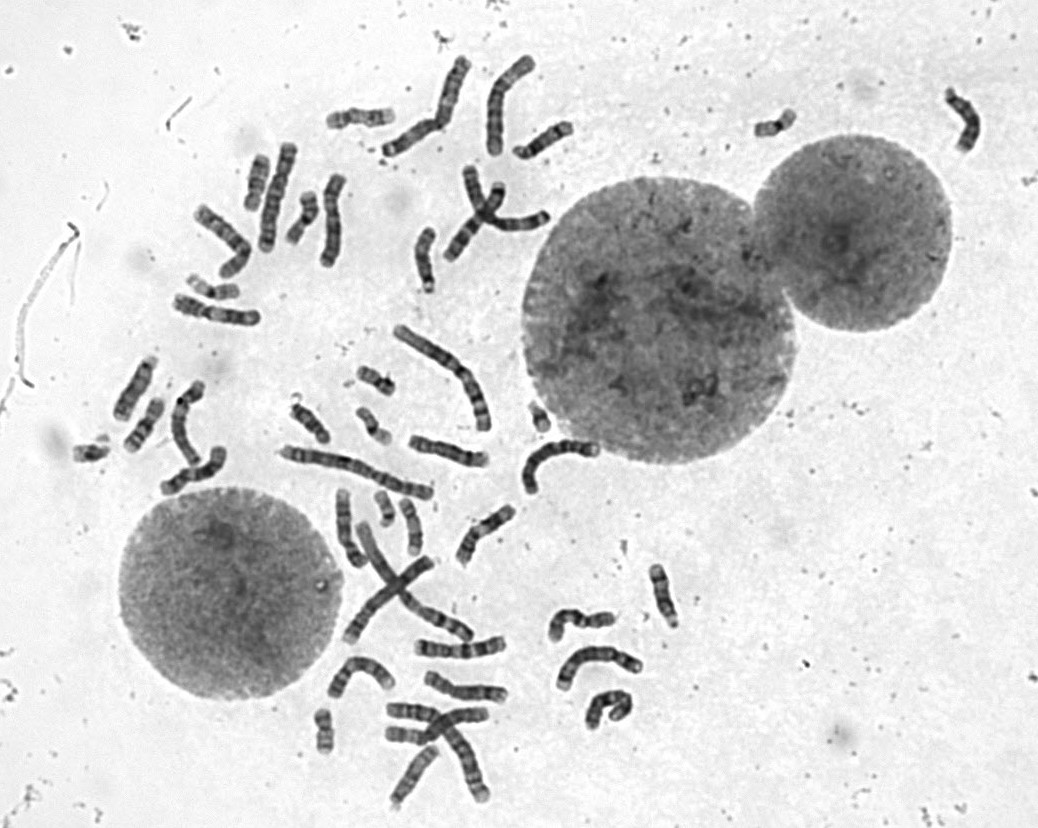chromosomes: (352, 517, 479, 642), (385, 321, 498, 436), (382, 696, 496, 808), (375, 54, 474, 158), (338, 553, 438, 649), (275, 444, 437, 503), (458, 162, 552, 233), (440, 179, 512, 270), (484, 53, 539, 159), (187, 199, 254, 281), (519, 437, 604, 499), (259, 135, 301, 259), (447, 500, 519, 572), (546, 646, 645, 694), (383, 706, 492, 748), (158, 441, 230, 501), (383, 744, 445, 813), (109, 351, 161, 424), (328, 489, 372, 573), (169, 376, 209, 466), (322, 654, 395, 702), (406, 431, 496, 469), (169, 292, 263, 328), (422, 668, 511, 706), (320, 173, 355, 269), (939, 88, 983, 162), (122, 395, 169, 459), (511, 117, 579, 161), (410, 633, 510, 662), (581, 687, 636, 736), (647, 560, 684, 632), (543, 608, 617, 644), (282, 188, 322, 251), (238, 150, 271, 221), (411, 225, 441, 299), (287, 403, 337, 447), (324, 106, 400, 132), (752, 105, 801, 145), (355, 404, 396, 448), (185, 273, 245, 303), (353, 365, 401, 402), (399, 494, 426, 559), (67, 431, 113, 465), (311, 708, 338, 759), (372, 484, 397, 532), (527, 397, 555, 437)
